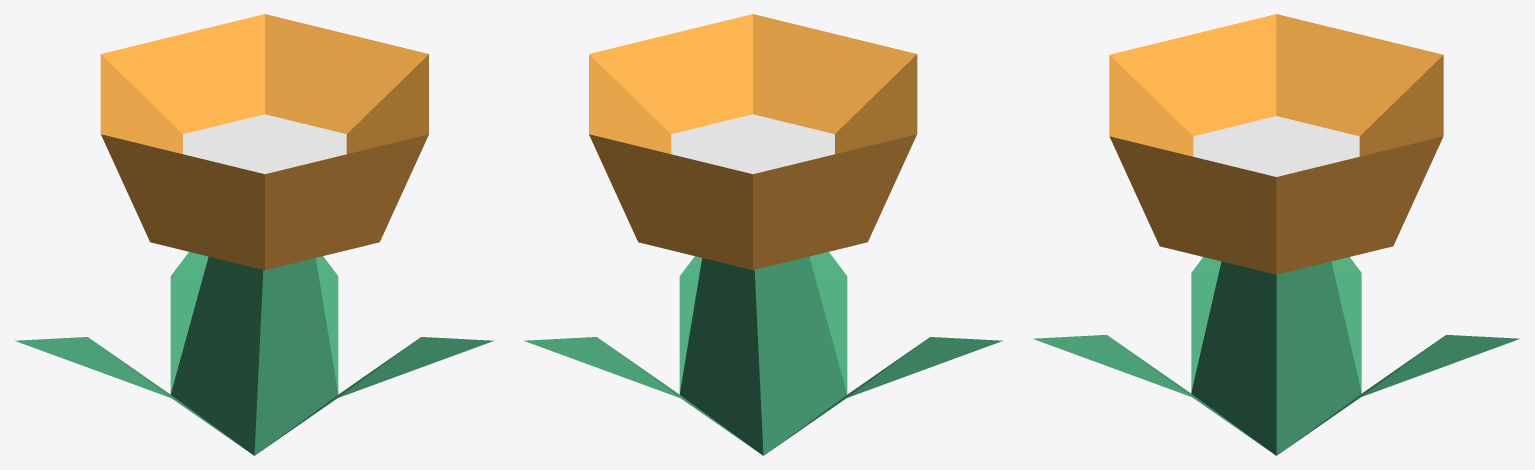
The model's file is flower_yellow.glb.
3 renders of one model, left to right at view 1: azimuth 30°, elevation 25°; view 2: azimuth 150°, elevation 25°; view 3: azimuth 270°, elevation 25°, orthographic.
Visible parts, largest first — view 1: flower_yellow; view 2: flower_yellow; view 3: flower_yellow.
Part boxes in pixels (x1,y1,x2,y2): flower_yellow: (15,14,493,455); flower_yellow: (524,14,1002,455); flower_yellow: (1033,14,1519,455).
Bounding box in the file's own units: 0.1806 × 0.1325 × 0.1811.
